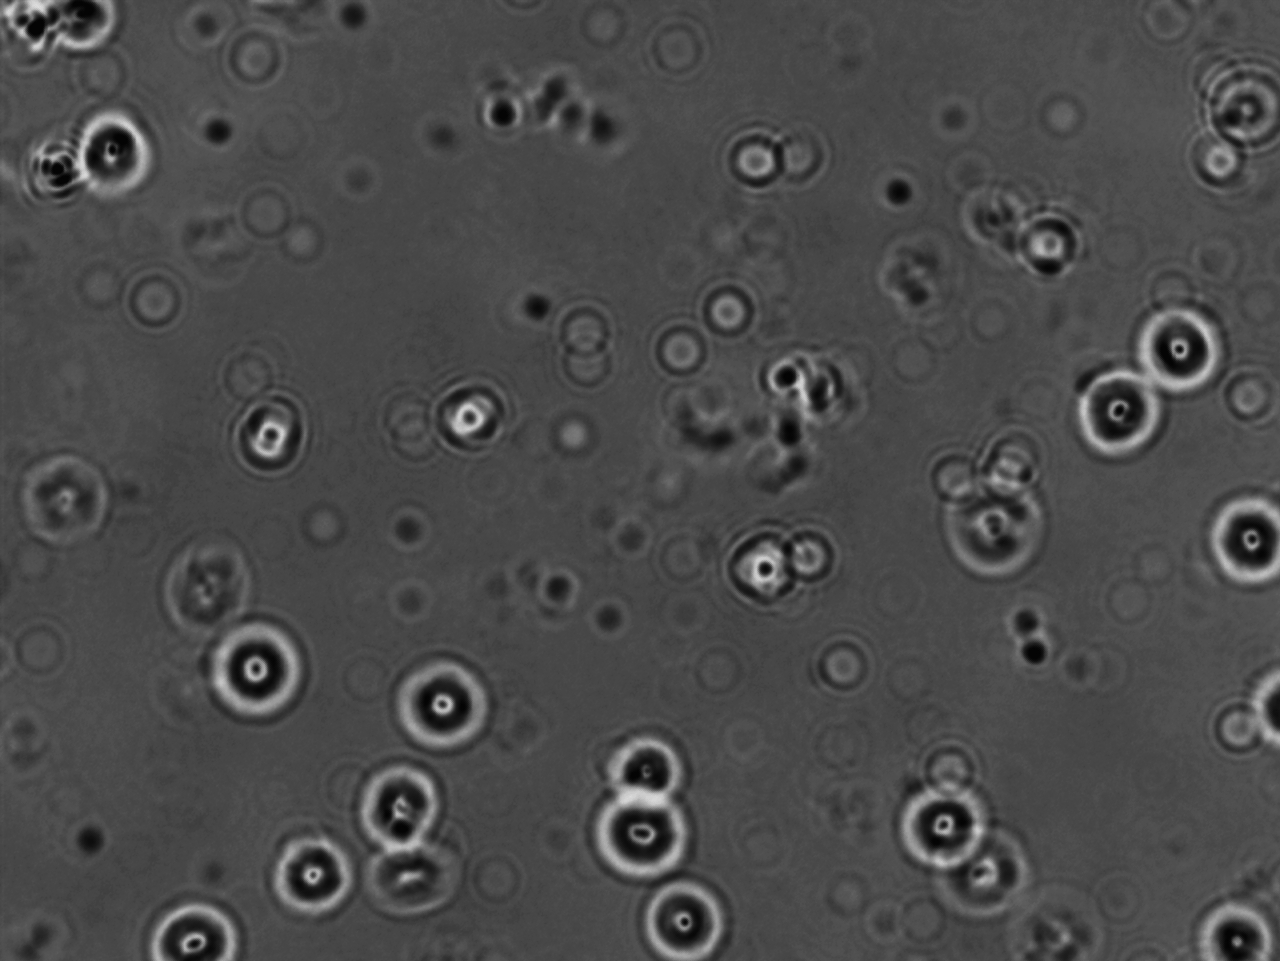depth:-8: (198, 603, 316, 733), (381, 646, 509, 758), (578, 780, 700, 890), (1057, 359, 1167, 472), (1126, 291, 1237, 401), (887, 773, 995, 876), (348, 758, 457, 855), (597, 711, 701, 812), (628, 865, 736, 961), (65, 96, 165, 198), (266, 831, 368, 927), (1198, 477, 1280, 591), (141, 883, 252, 961), (1190, 888, 1280, 961)
